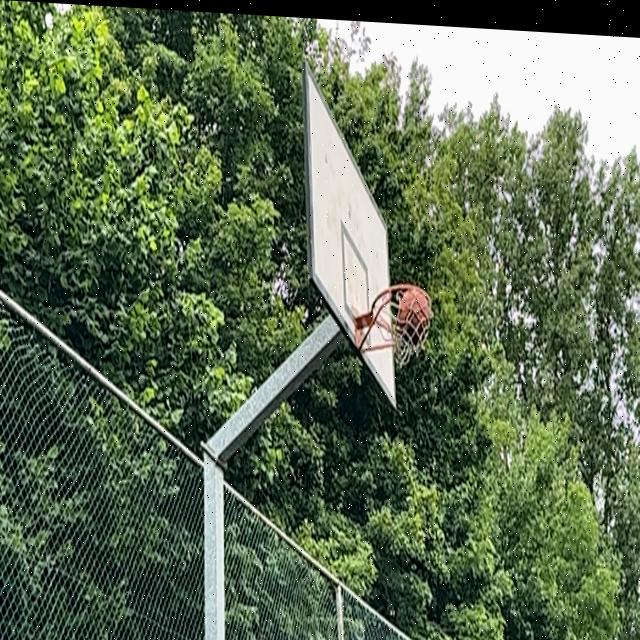Goal: (400, 287, 430, 348)
